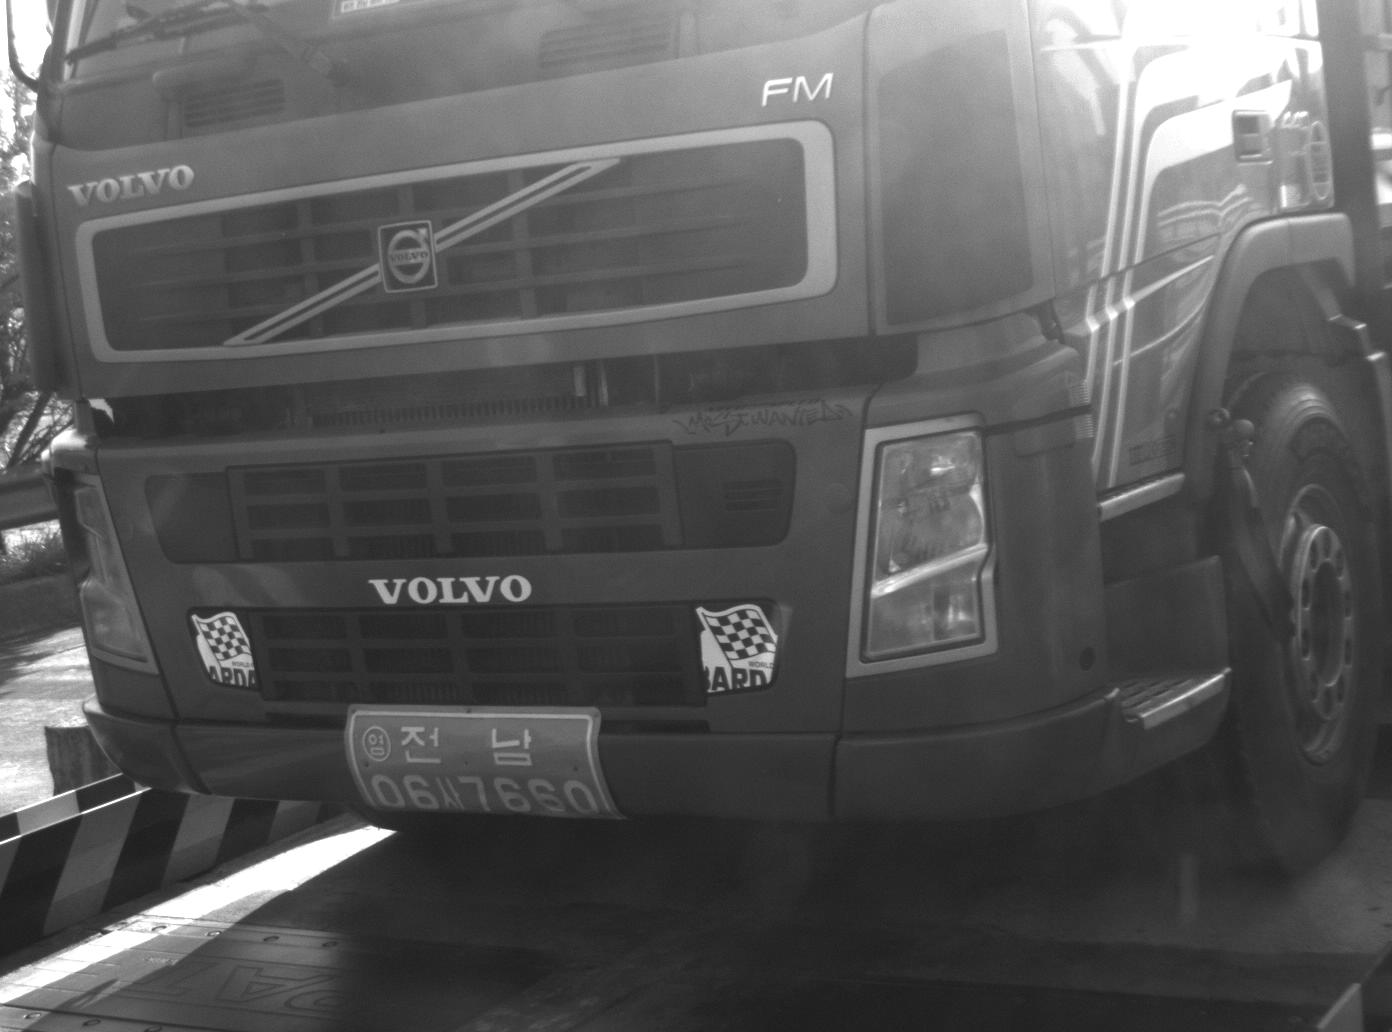car: (1, 1, 1387, 885)
plate: (341, 701, 621, 826)
